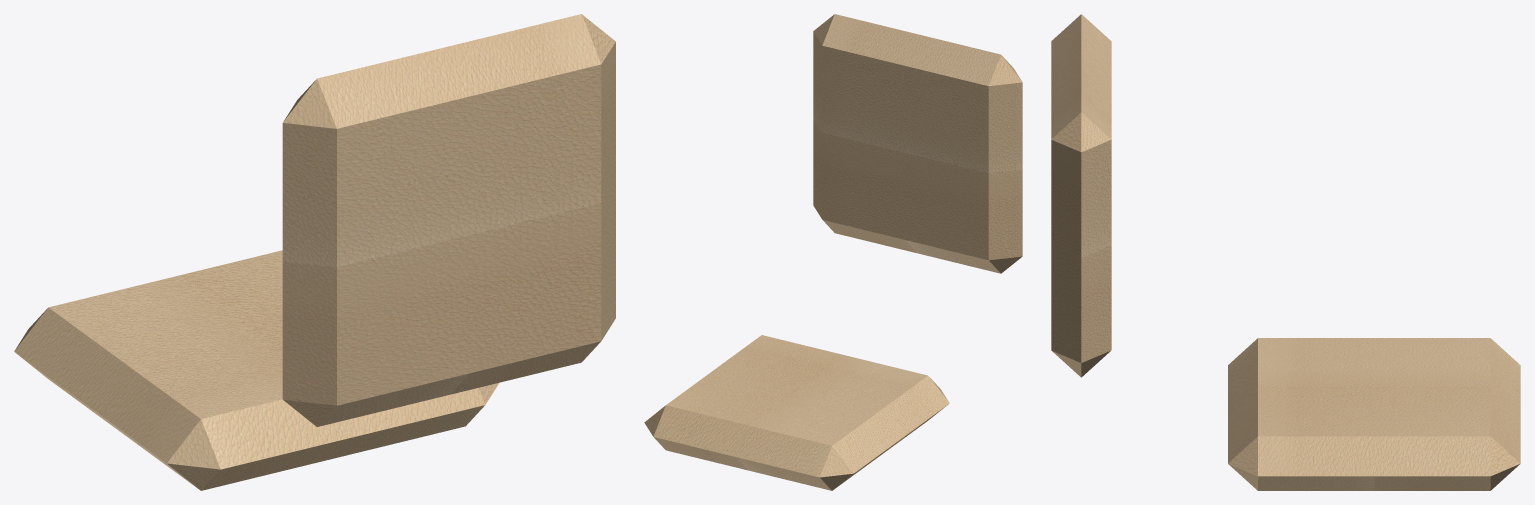
Rendered from seat_leather.glb.
The picture shows the model from 3 angles, left to right: view 1: azimuth 30°, elevation 25°; view 2: azimuth 150°, elevation 25°; view 3: azimuth 270°, elevation 25°; orthographic projection. The views are drawn at different scales.
Parts seen in each view (by area): view 1: Cube; view 2: Cube; view 3: Cube.
Boxes of the visible parts, bbox=[...] form: Cube: bbox=[14, 14, 615, 490]; Cube: bbox=[644, 14, 1022, 490]; Cube: bbox=[1051, 14, 1520, 490].
Size of the model in its own units: 0.17 by 0.2425 by 0.2725.
1 material, 1 textured.
